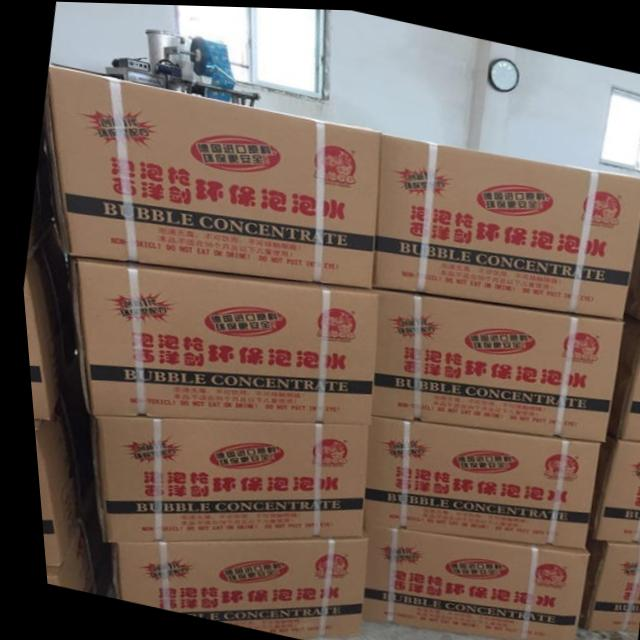box: (48, 64, 380, 288), (68, 259, 370, 423), (372, 134, 640, 312), (365, 288, 619, 439), (84, 415, 361, 541), (357, 414, 593, 546), (354, 524, 579, 640), (100, 539, 354, 636), (27, 401, 79, 565), (19, 233, 62, 419), (569, 533, 638, 628), (581, 430, 640, 541), (36, 503, 98, 593), (599, 318, 640, 439), (616, 194, 640, 315)
